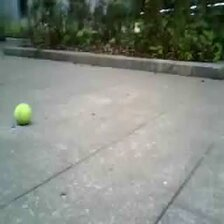tennis: (13, 102, 33, 124)
